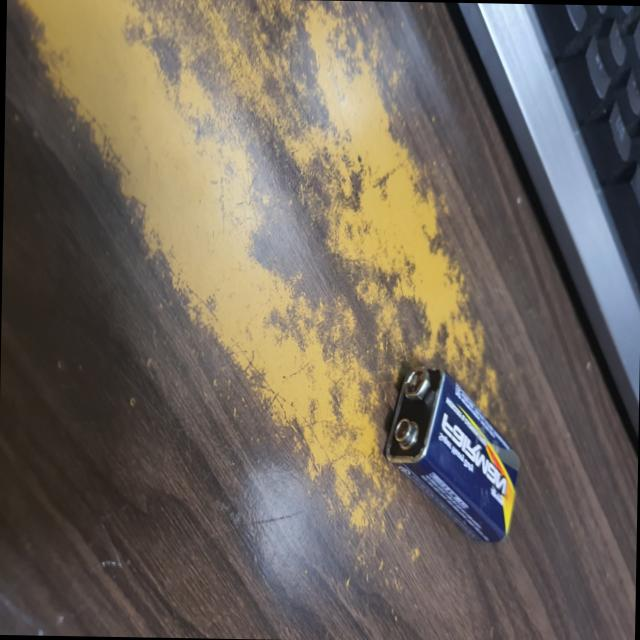battery-etc-etc: (376, 359, 524, 552)
